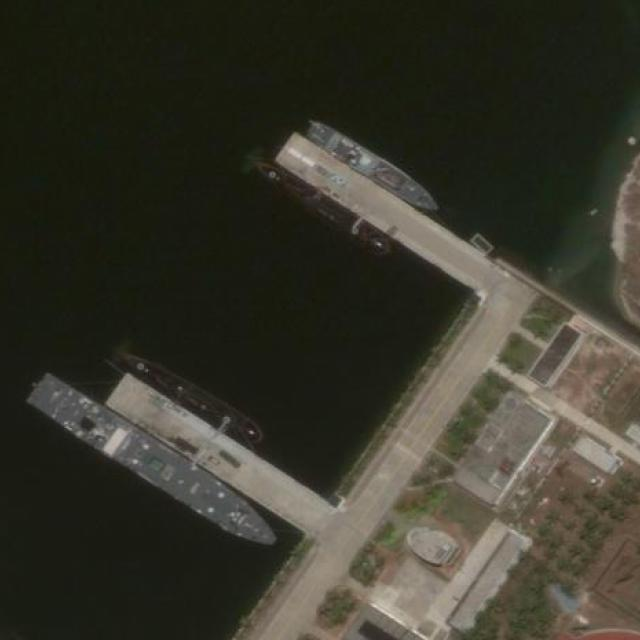Landing: (303, 118, 448, 220)
Other Warship: (19, 368, 290, 559)
Submarine: (105, 336, 268, 450), (246, 152, 396, 258)
